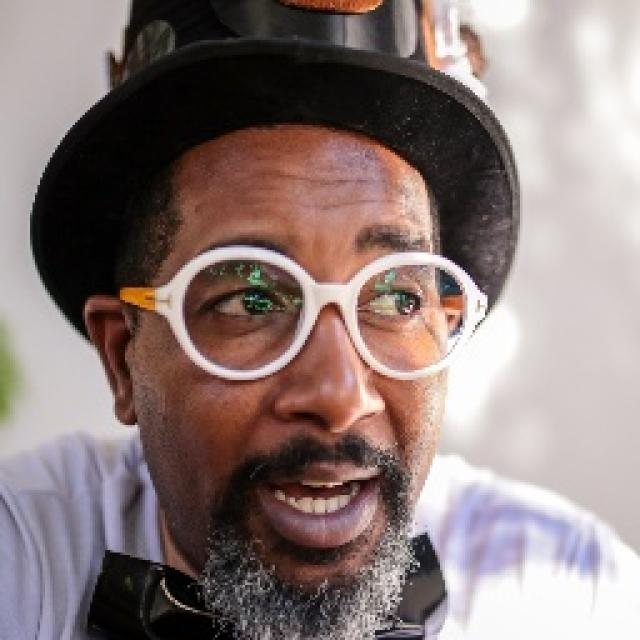earlobe: (84, 295, 143, 428)
